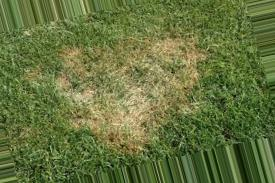patch: (105, 105, 131, 127), (115, 136, 146, 149), (76, 87, 94, 101), (162, 44, 184, 54), (129, 88, 147, 97)
